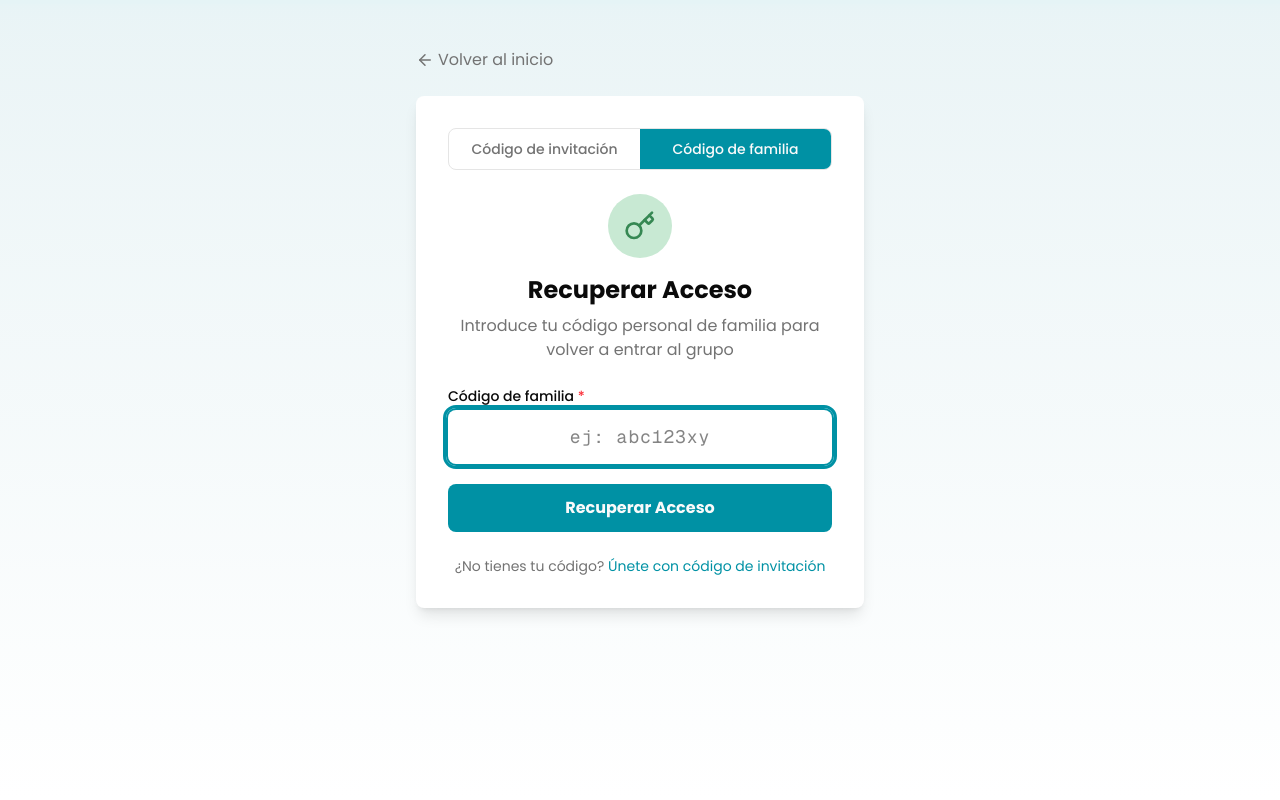
Test: JoinPage — familia tab › shows error when family code is empty
This screenshot has width=1280, height=800.
Step 1. Click the button "Recuperar Acceso" → {"x": 640, "y": 508}, box [448, 484, 832, 532]
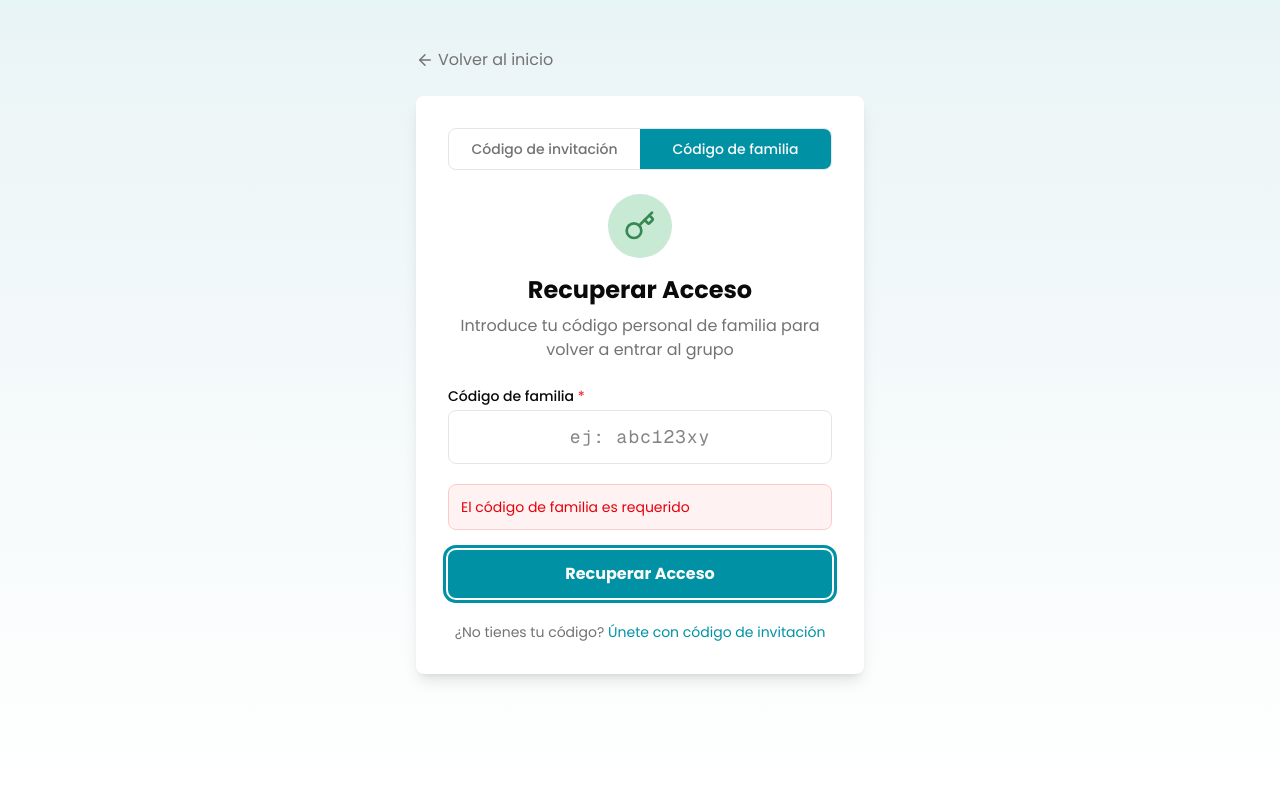
Check: the text "El código de familia es requerido" is shown, box [448, 484, 832, 530]
